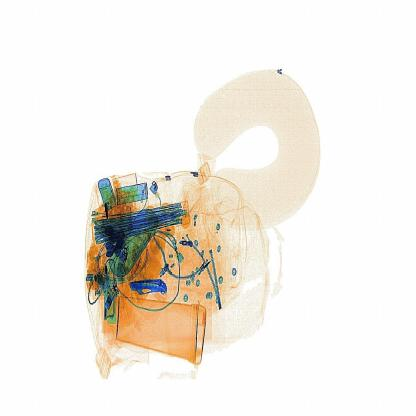knife: (126, 276, 176, 300)
